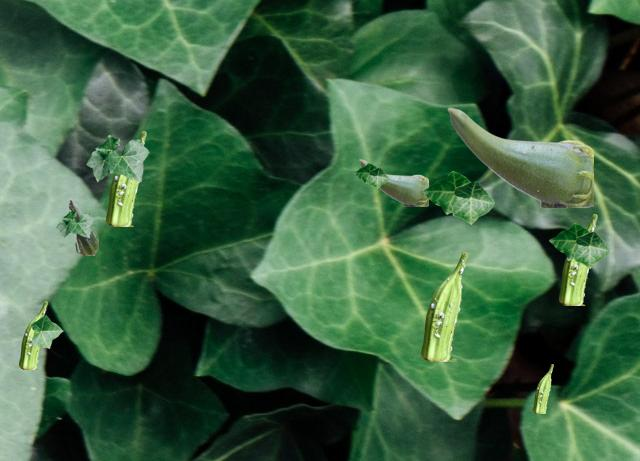okra: (447, 107, 592, 206), (421, 252, 466, 360), (106, 131, 145, 225), (559, 214, 596, 304), (359, 159, 427, 205), (19, 301, 46, 368), (67, 197, 97, 254), (533, 364, 552, 412)
